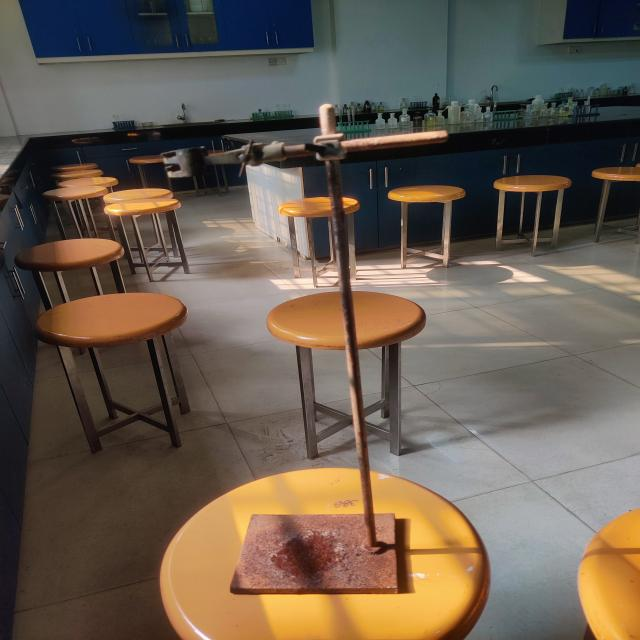Burette_Stands: (178, 90, 495, 625)
